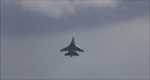maybay_muctieu: (62, 34, 84, 59)
